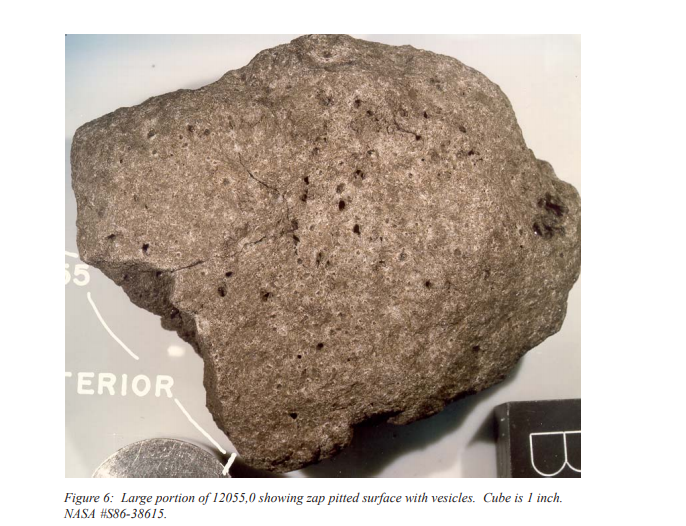Basalt: (70, 46, 583, 390), (274, 51, 462, 462), (120, 132, 558, 301)
